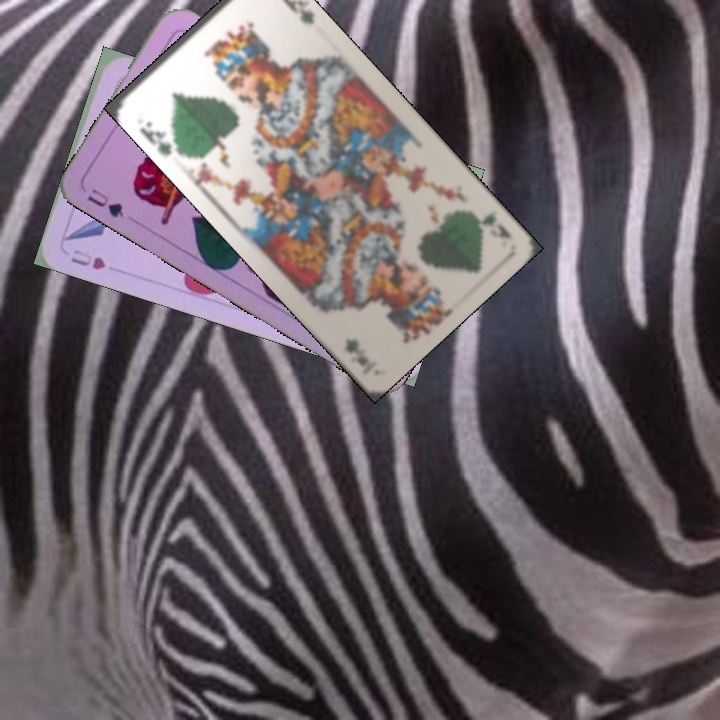GK: (460, 204, 515, 241), (135, 117, 181, 159)
GU: (83, 184, 126, 220)
HU: (67, 245, 108, 273)
